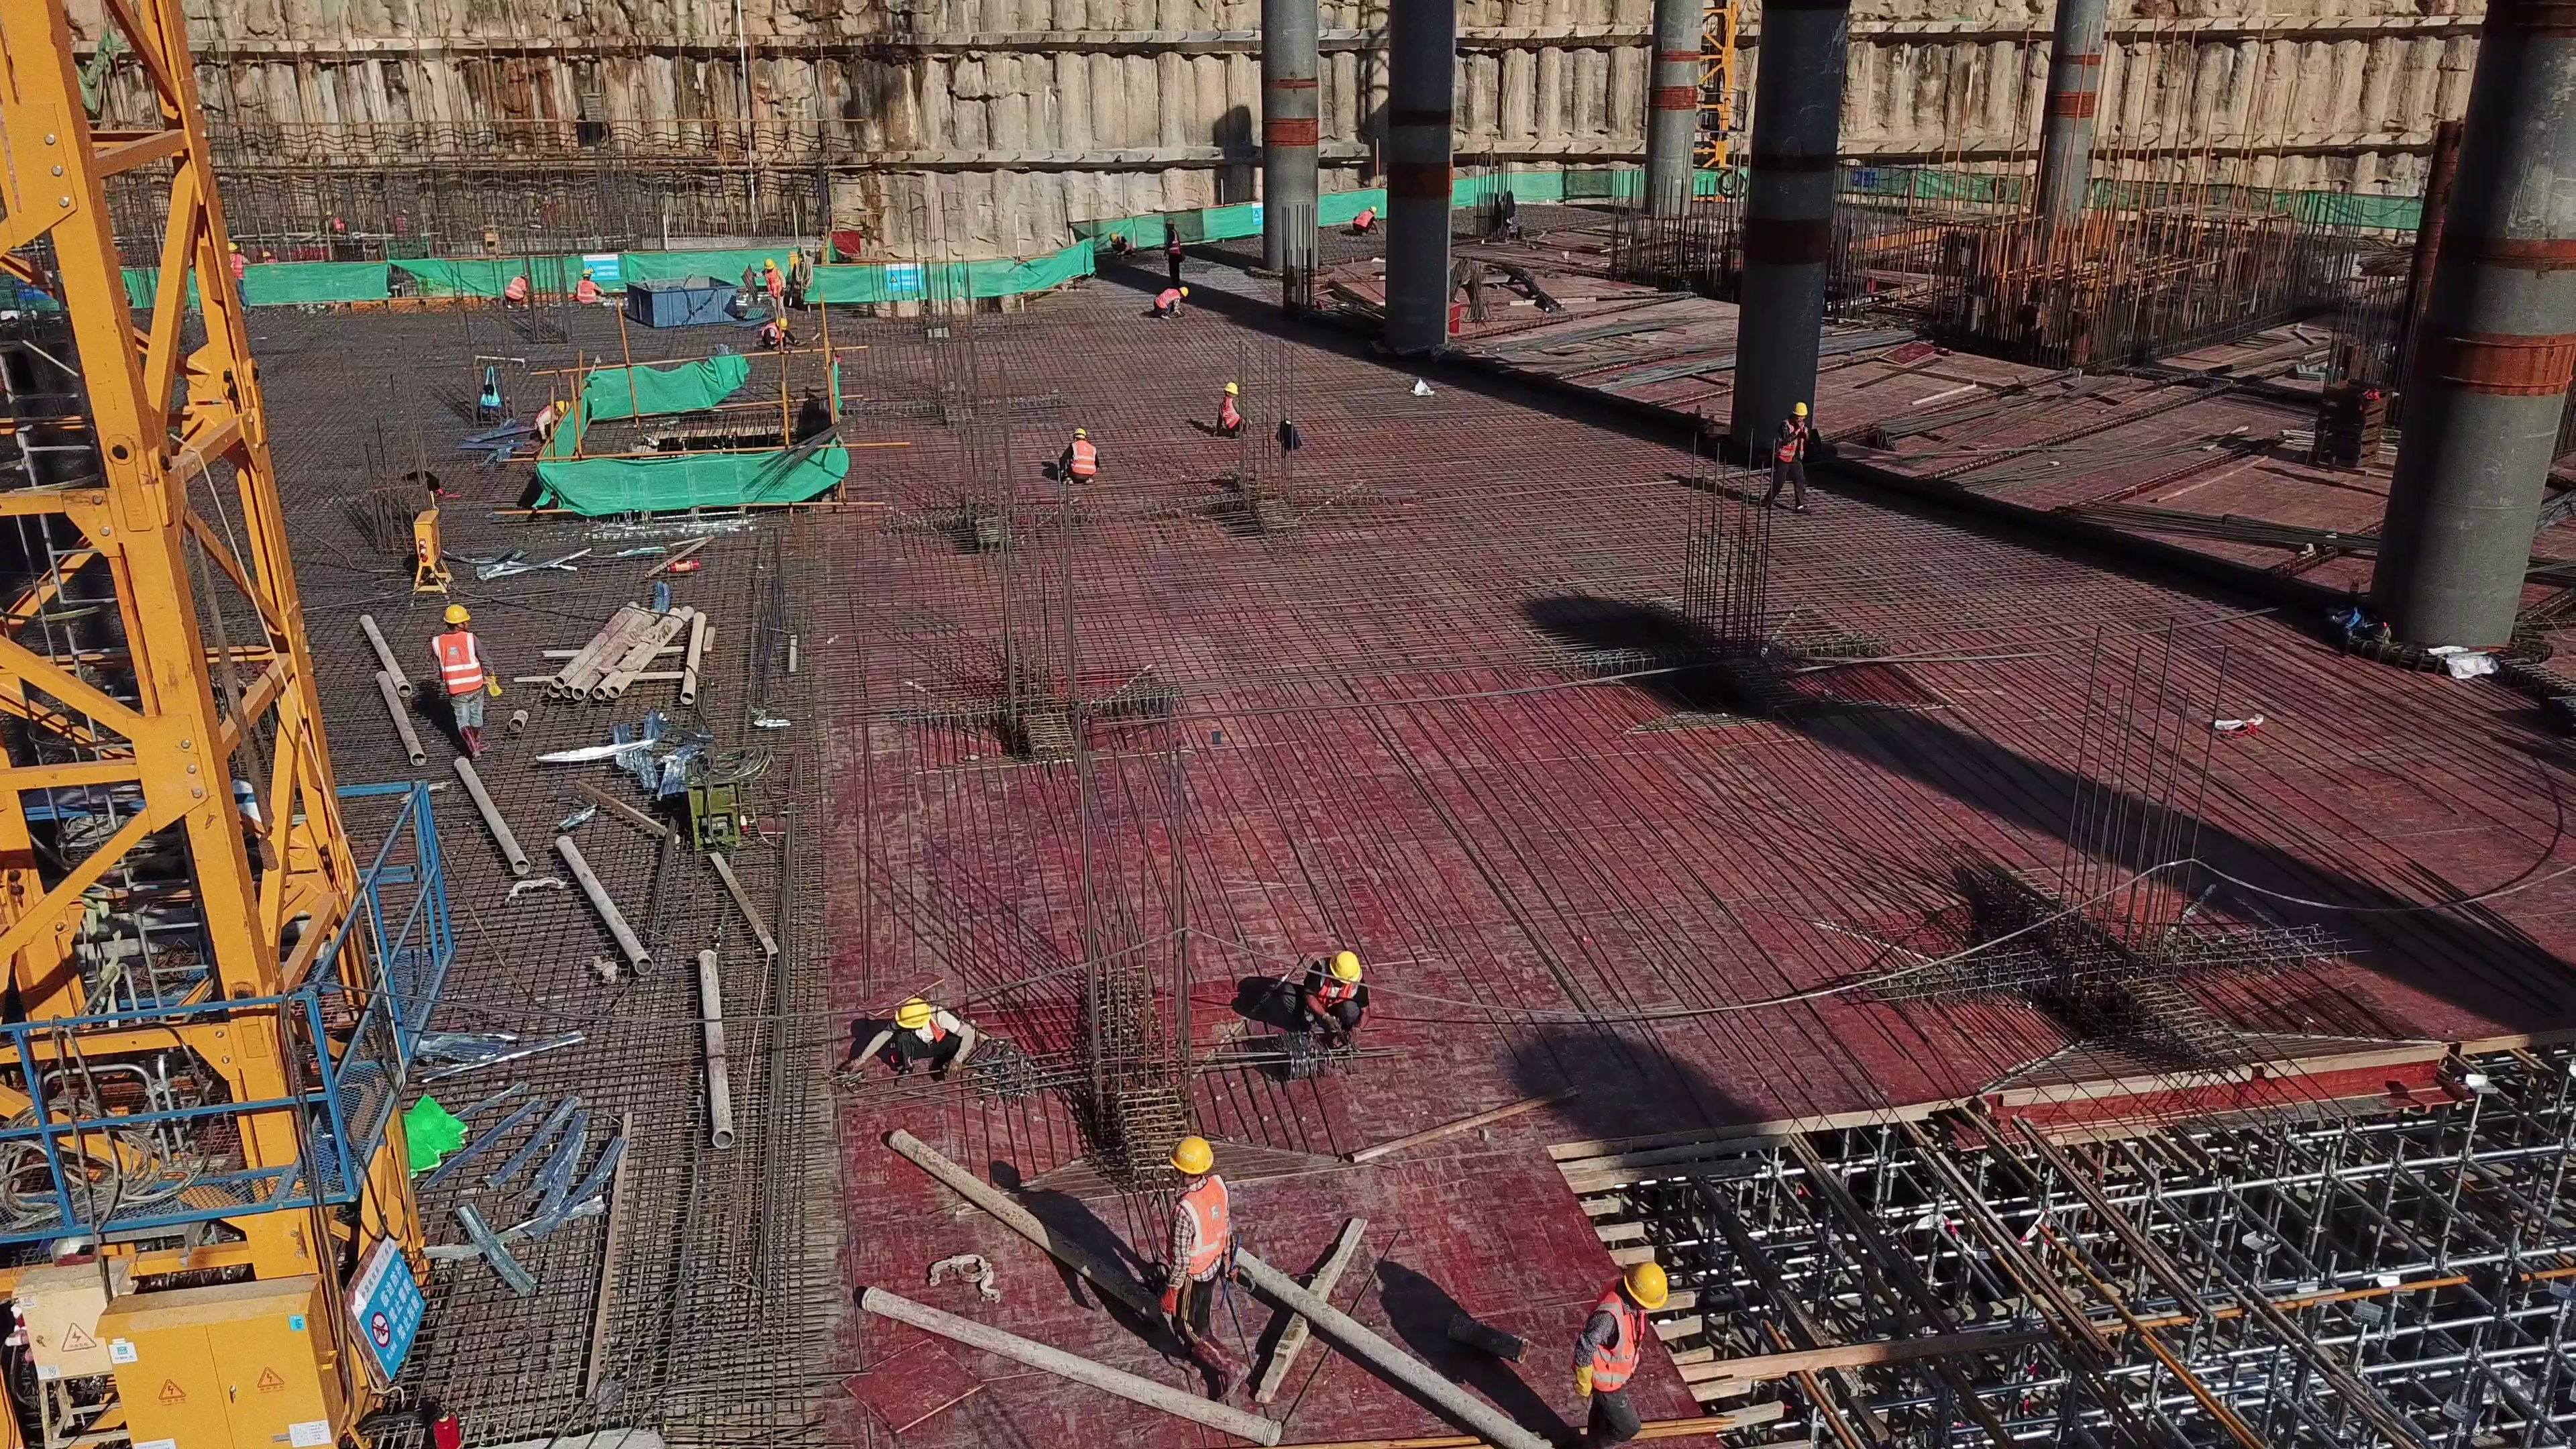helmet: (1623, 1262, 1668, 1309), (1169, 1132, 1214, 1177), (896, 998, 931, 1030), (1327, 951, 1360, 983), (441, 606, 470, 623), (1789, 400, 1809, 418), (1223, 380, 1236, 393), (557, 401, 567, 413), (763, 260, 774, 268), (778, 317, 788, 329), (1165, 215, 1173, 225), (1074, 427, 1082, 437), (1112, 229, 1118, 239), (1180, 285, 1186, 294), (1371, 205, 1375, 215), (585, 269, 590, 276)
person: (1161, 1136, 1246, 1399), (1572, 1263, 1667, 1446), (840, 1000, 973, 1078), (431, 604, 495, 761), (1272, 951, 1368, 1053), (1763, 402, 1813, 514), (753, 260, 790, 323), (1058, 427, 1099, 485), (1210, 382, 1250, 439), (227, 241, 250, 312), (1150, 285, 1192, 321), (759, 317, 802, 350), (1164, 217, 1183, 286), (536, 400, 568, 437), (502, 270, 529, 308), (573, 268, 602, 303), (1350, 205, 1377, 235), (1111, 231, 1130, 258), (323, 211, 339, 233)
vest: (1172, 1176, 1228, 1275), (1590, 1289, 1642, 1390), (433, 633, 485, 692), (1778, 419, 1803, 460), (1071, 440, 1093, 476), (1220, 397, 1237, 426), (1157, 288, 1181, 308), (765, 272, 782, 294), (578, 282, 594, 301), (507, 277, 524, 300), (229, 252, 242, 279), (1166, 230, 1178, 255), (1354, 210, 1370, 229)
